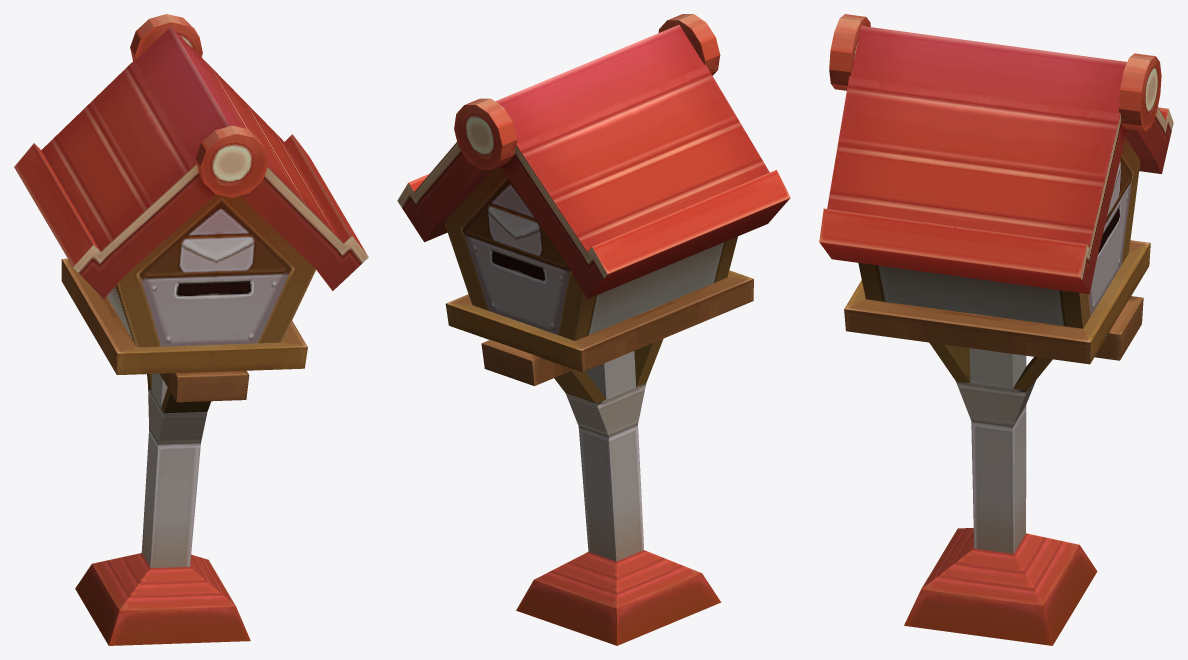
File: youxiang.FBX
The picture shows the model from 3 angles, left to right: view 1: azimuth 30°, elevation 25°; view 2: azimuth 150°, elevation 25°; view 3: azimuth 270°, elevation 25°; orthographic projection. The views are drawn at different scales.
Parts seen in each view (by area): view 1: Object179; view 2: Object179; view 3: Object179.
Boxes of the visible parts, <box> form: Object179: <box>14,14,368,645</box>; Object179: <box>397,14,790,645</box>; Object179: <box>819,14,1173,645</box>.
Size of the model in its own units: 108 by 177 by 97.11.
